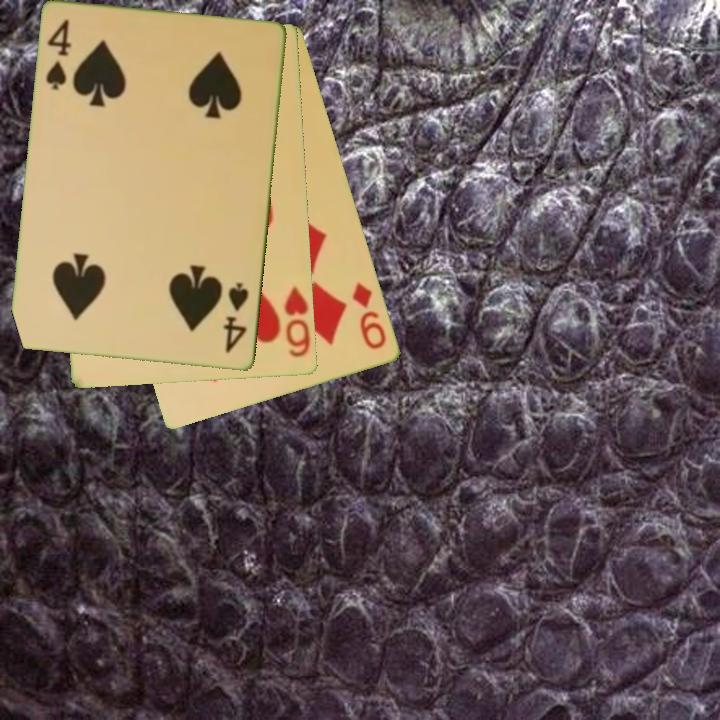4s: (42, 16, 74, 94), (220, 279, 252, 356)
6h: (281, 283, 313, 361)
9d: (349, 278, 390, 353)
